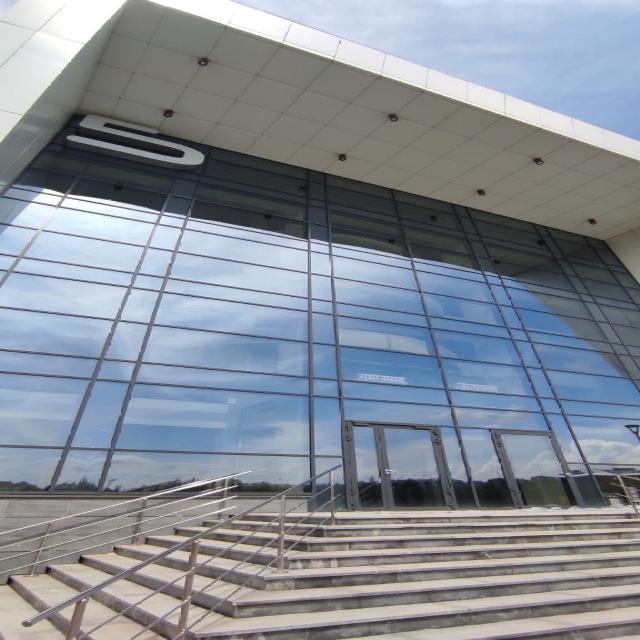Building: (0, 0, 640, 533)
